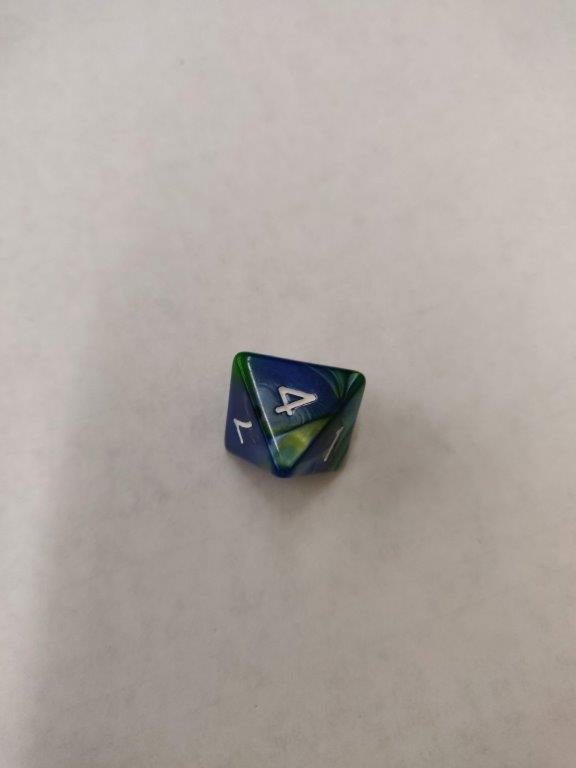d8-4: (220, 348, 368, 480)
